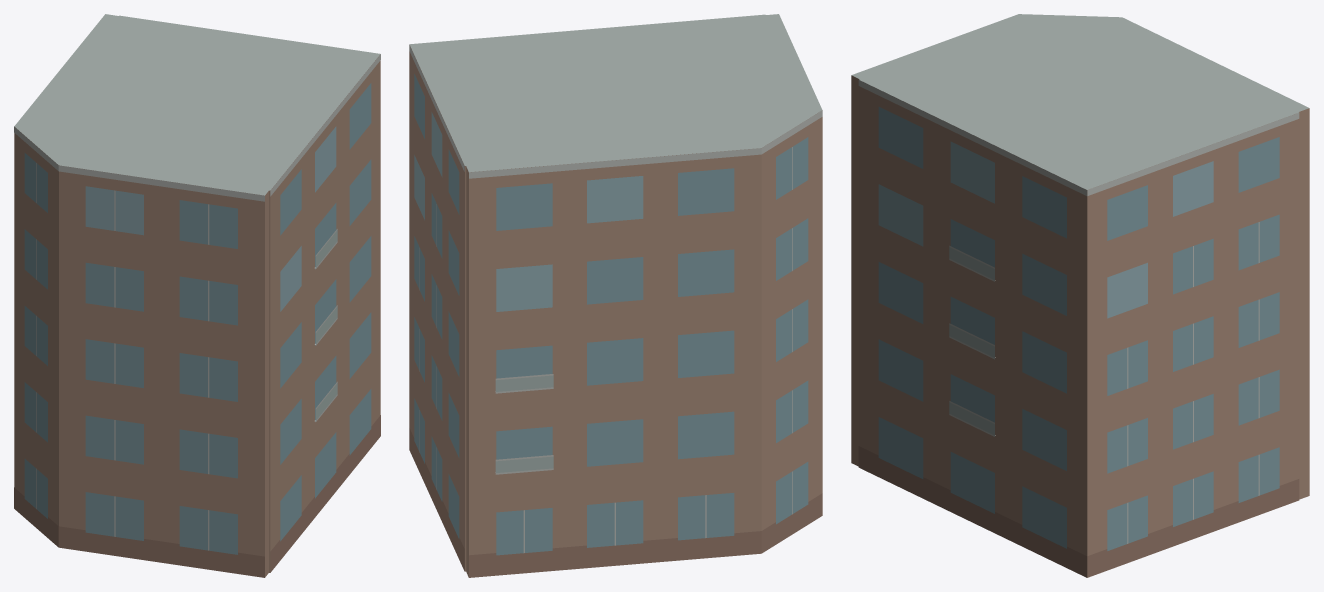
File: survey-upis-32882474.glb
3 views of the same model, side by side, from view 1: azimuth 30°, elevation 25°; view 2: azimuth 150°, elevation 25°; view 3: azimuth 270°, elevation 25° (orthographic). The views are drawn at different scales.
Visible parts, largest first — view 1: survey-upis-32882474.tmp; view 2: survey-upis-32882474.tmp; view 3: survey-upis-32882474.tmp.
Boxes of the visible parts, x1,y1,x2,y2 form: survey-upis-32882474.tmp: (14, 14, 380, 577); survey-upis-32882474.tmp: (409, 14, 822, 577); survey-upis-32882474.tmp: (851, 14, 1309, 577).
Size of the model in its own units: 14.81 by 15.2 by 16.29.
